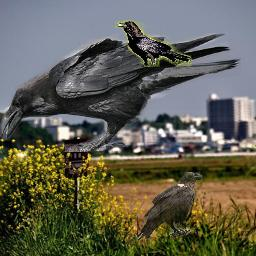Crow: (0, 33, 242, 152), (135, 172, 202, 241), (115, 20, 192, 67)
